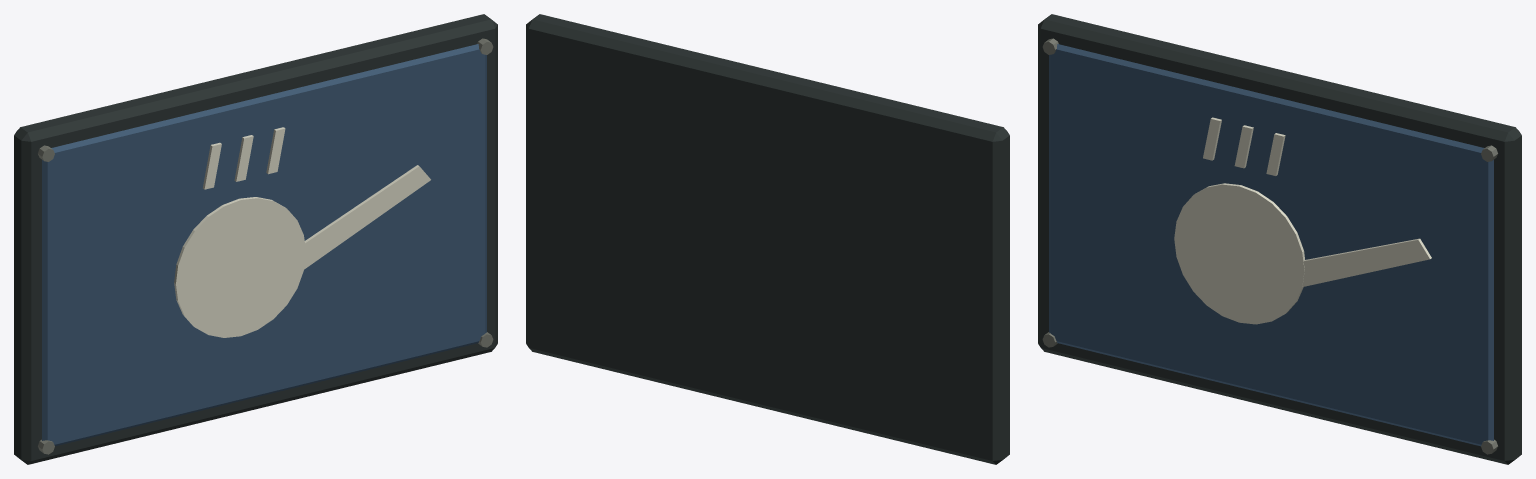
Rendered from SM_Henhouse_Sign_Kitchen_A.fbx.
3 renders of one model, left to right at view 1: azimuth 30°, elevation 25°; view 2: azimuth 150°, elevation 25°; view 3: azimuth 330°, elevation 25°, orthographic.
Parts seen in each view (by area): view 1: SM_Henhouse_Sign_Kitchen_A; view 2: SM_Henhouse_Sign_Kitchen_A; view 3: SM_Henhouse_Sign_Kitchen_A.
Part boxes in pixels (bbox=[...]): SM_Henhouse_Sign_Kitchen_A: bbox=[14, 14, 497, 464]; SM_Henhouse_Sign_Kitchen_A: bbox=[526, 14, 1009, 464]; SM_Henhouse_Sign_Kitchen_A: bbox=[1038, 14, 1521, 464].
Bounding box in the file's own units: 4.4 × 60 × 40.
